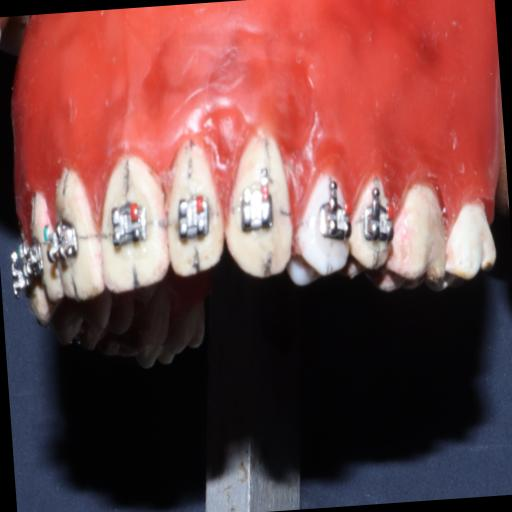incorrect_brace: (238, 180, 277, 235)
